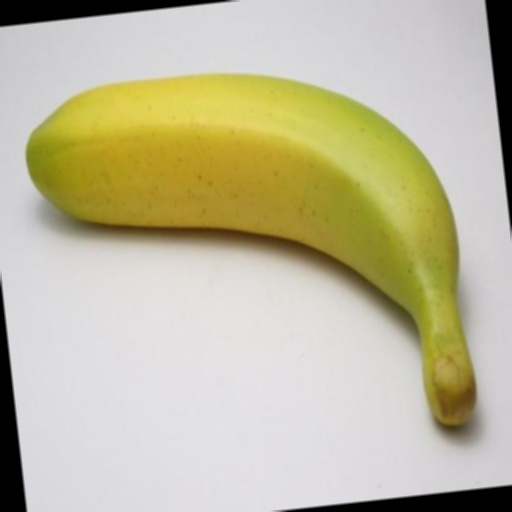fruit: (0, 92, 75, 280)
